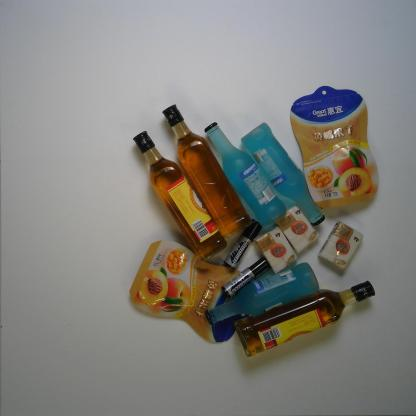Alcohol: (240, 122, 326, 225), (204, 122, 286, 225), (204, 263, 320, 325)
Dried Fruit: (128, 238, 250, 348), (290, 85, 380, 209)
Seasoner: (132, 130, 228, 261), (160, 103, 252, 238), (233, 280, 376, 358)
Stationery: (221, 256, 272, 298), (223, 218, 262, 269)
Tissue: (319, 221, 365, 272), (274, 206, 321, 254), (253, 226, 298, 273)
